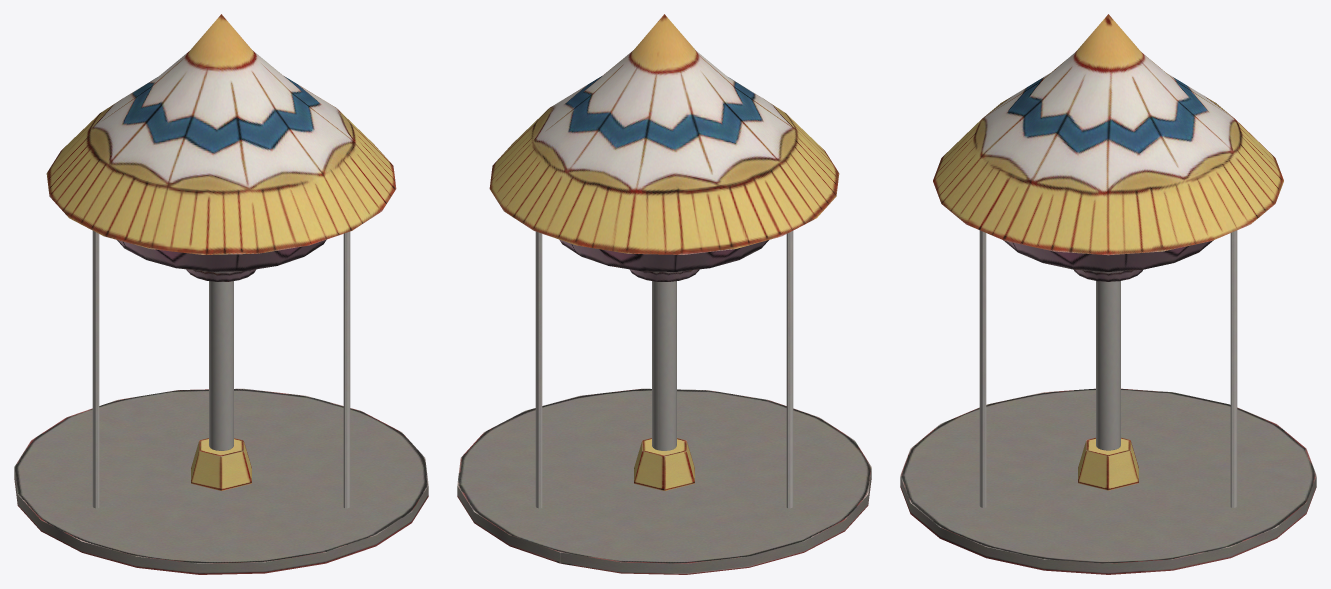
File: FerryGoRound.fbx
3 views of the same model, side by side, from view 1: azimuth 30°, elevation 25°; view 2: azimuth 150°, elevation 25°; view 3: azimuth 270°, elevation 25° (orthographic).
Parts seen in each view (by area): view 1: pCylinder2, polySurface1, polySurface3, polySurface4, pCylinder3, pCylinder4, pCylinder5; view 2: pCylinder2, polySurface1, polySurface3, polySurface4, pCylinder3, pCylinder4, pCylinder6; view 3: pCylinder2, polySurface1, polySurface3, polySurface4, pCylinder3, pCylinder6, pCylinder5.
Part boxes in pixels (x1,y1,x2,y2): pCylinder2: (14,388,428,574); polySurface1: (46,14,396,254); polySurface3: (186,269,256,450); polySurface4: (117,239,326,271); pCylinder3: (191,438,251,490); pCylinder4: (92,231,99,508); pCylinder5: (343,231,350,508); pCylinder2: (457,388,871,574); polySurface1: (489,14,839,254); polySurface3: (629,269,699,450); polySurface4: (559,239,768,271); pCylinder3: (634,438,694,490); pCylinder4: (786,231,793,508); pCylinder6: (535,231,542,508); pCylinder2: (900,388,1316,574); polySurface1: (933,14,1283,255); polySurface3: (1074,269,1142,450); polySurface4: (1003,240,1213,271); pCylinder3: (1078,437,1138,490); pCylinder6: (1230,230,1237,507); pCylinder5: (979,230,986,507).
Size of the model in its own units: 2.42 by 3.04 by 2.42.
